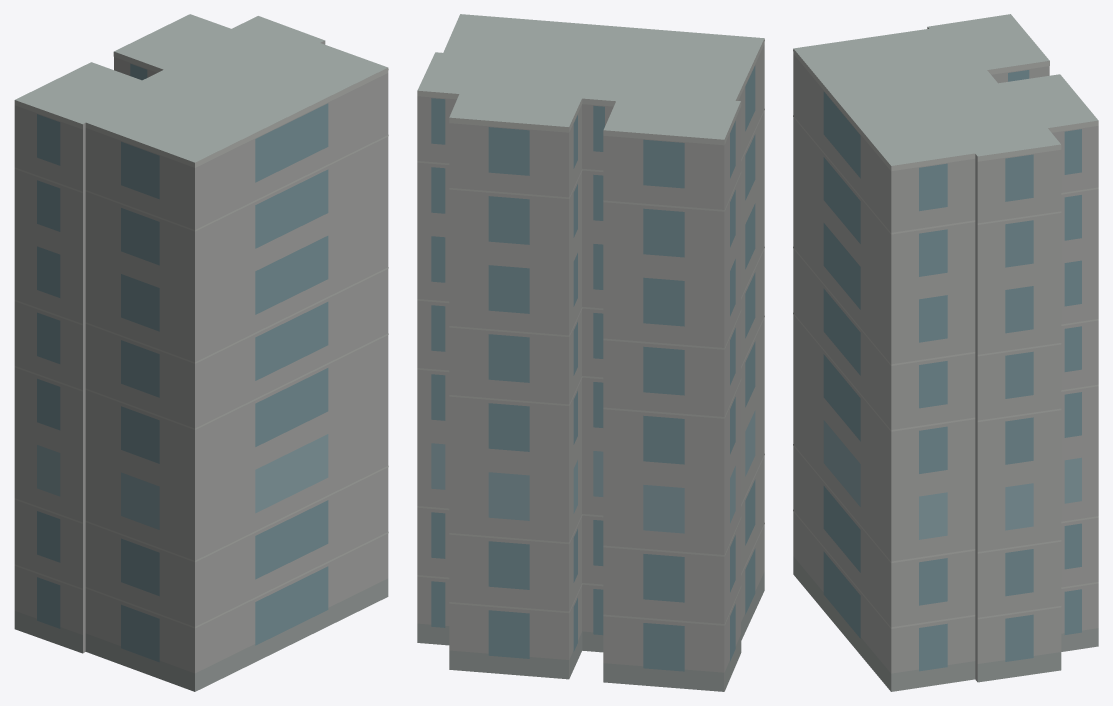
Rendered from survey-upis-33022557.glb.
3 renders of one model, left to right at view 1: azimuth 30°, elevation 25°; view 2: azimuth 150°, elevation 25°; view 3: azimuth 270°, elevation 25°, orthographic. The views are drawn at different scales.
Visible parts, largest first — view 1: survey-upis-33022557.tmp; view 2: survey-upis-33022557.tmp; view 3: survey-upis-33022557.tmp.
Part boxes in pixels (bbox=[...]): survey-upis-33022557.tmp: bbox=[14, 14, 388, 691]; survey-upis-33022557.tmp: bbox=[417, 14, 764, 691]; survey-upis-33022557.tmp: bbox=[793, 14, 1098, 691].
Size of the model in its own units: 15.09 by 24.3 by 12.81.
